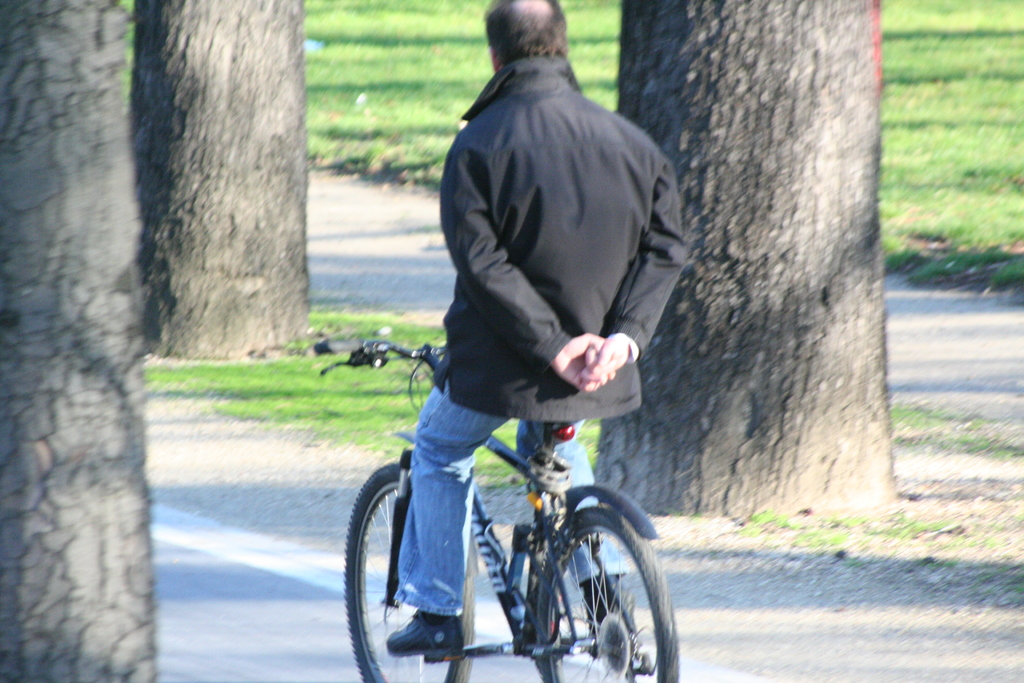Bike: (302, 325, 682, 683)
